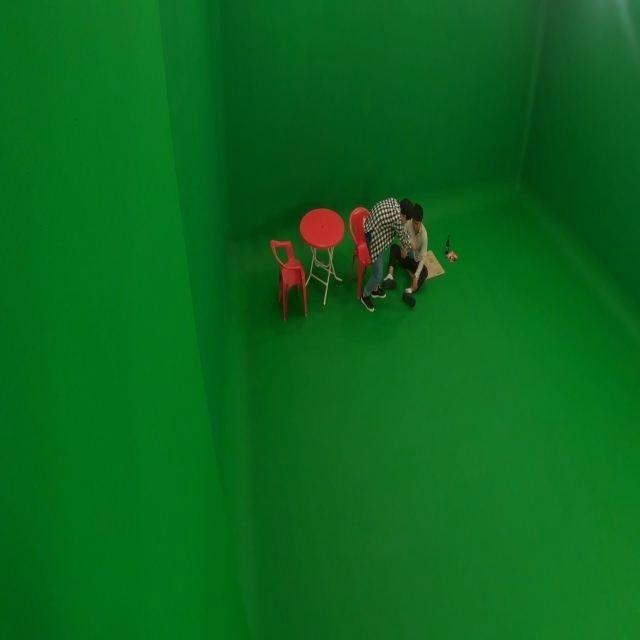fight: (360, 195, 432, 315)
